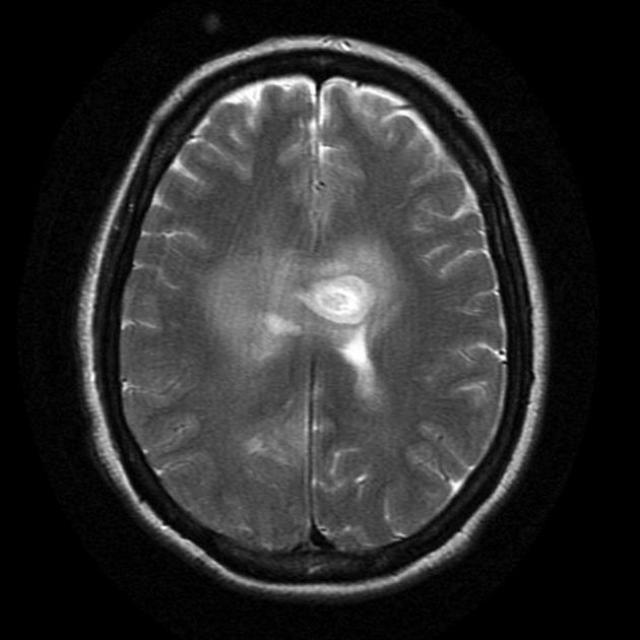Tumor-Cell: (271, 252, 390, 342)
